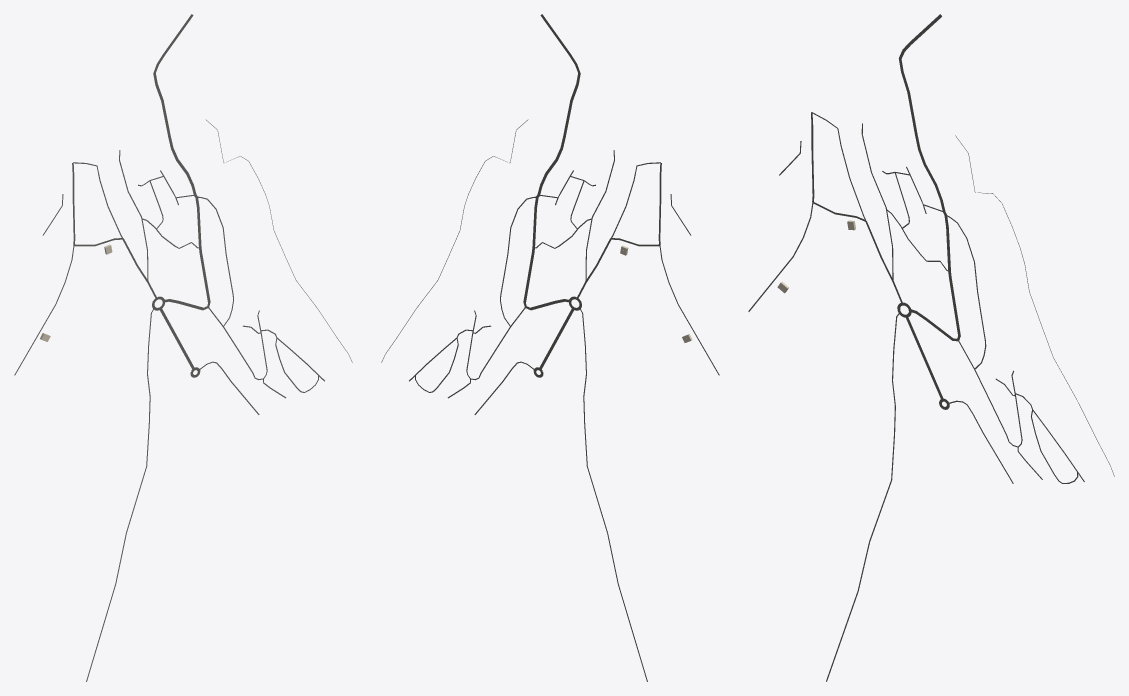
The model's file is historic-palestine-12_32_3537_3268.glb.
The picture shows the model from 3 angles, left to right: view 1: azimuth 30°, elevation 25°; view 2: azimuth 150°, elevation 25°; view 3: azimuth 330°, elevation 25°; orthographic projection. The views are drawn at different scales.
Parts seen in each view (by area): view 1: Road 7266.001, Road .001; view 2: Road 7266.001, Road .001; view 3: Road 7266.001, Road .001.
Part boxes in pixels (x1=…): Road 7266.001: x1=153, y1=14, x2=210, y2=310; Road .001: x1=86, y1=309, x2=153, y2=681; Road 7266.001: x1=523, y1=14, x2=580, y2=310; Road .001: x1=580, y1=309, x2=647, y2=681; Road 7266.001: x1=898, y1=14, x2=960, y2=341; Road .001: x1=826, y1=312, x2=899, y2=681.
Bounding box in the file's own units: 1038 × 1881 × 8.7.
